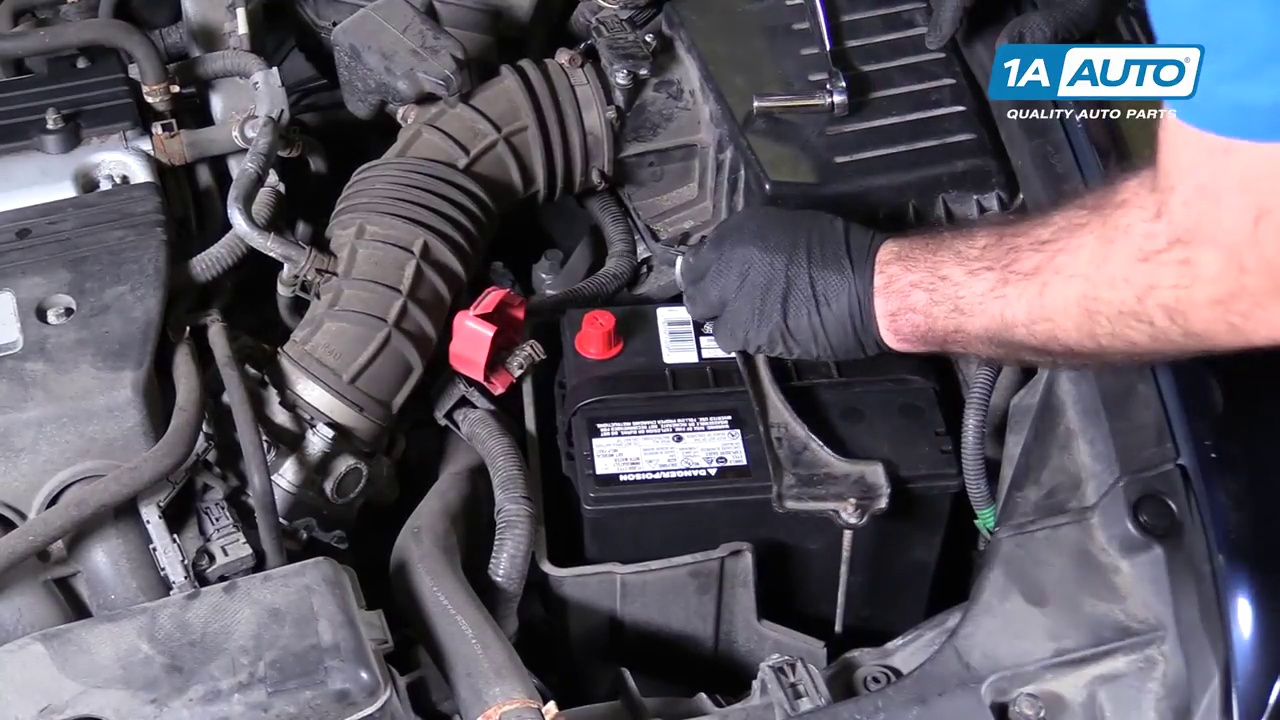battery: (556, 287, 960, 492)
pos_disconnected: (443, 278, 630, 384)
